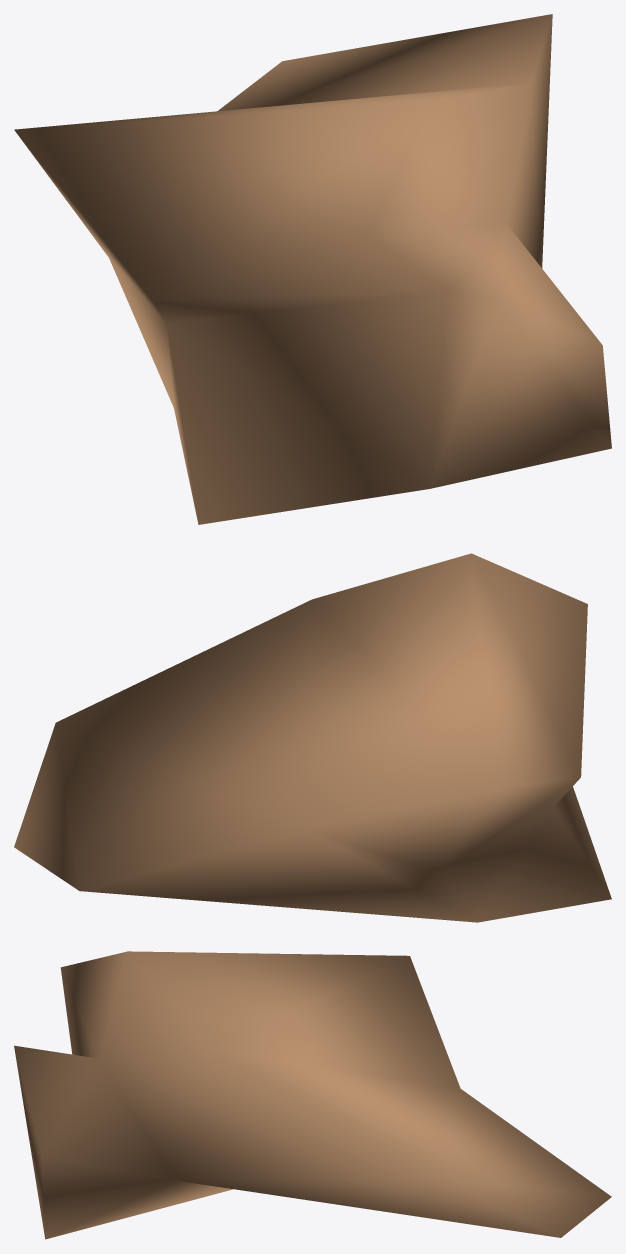
The model's file is MSH_Rock_Single_38.FBX.
3 renders of one model, top to bottom at view 1: azimuth 30°, elevation 25°; view 2: azimuth 150°, elevation 25°; view 3: azimuth 270°, elevation 25°, orthographic. The views are drawn at different scales.
Parts seen in each view (by area): view 1: MESH_ROCK_14; view 2: MESH_ROCK_14; view 3: MESH_ROCK_14.
Part boxes in pixels (<box>): MESH_ROCK_14: <box>14,14,611,524</box>; MESH_ROCK_14: <box>14,553,611,922</box>; MESH_ROCK_14: <box>14,951,611,1239</box>.
Bounding box in the file's own units: 8.13 × 5.41 × 10.37.
